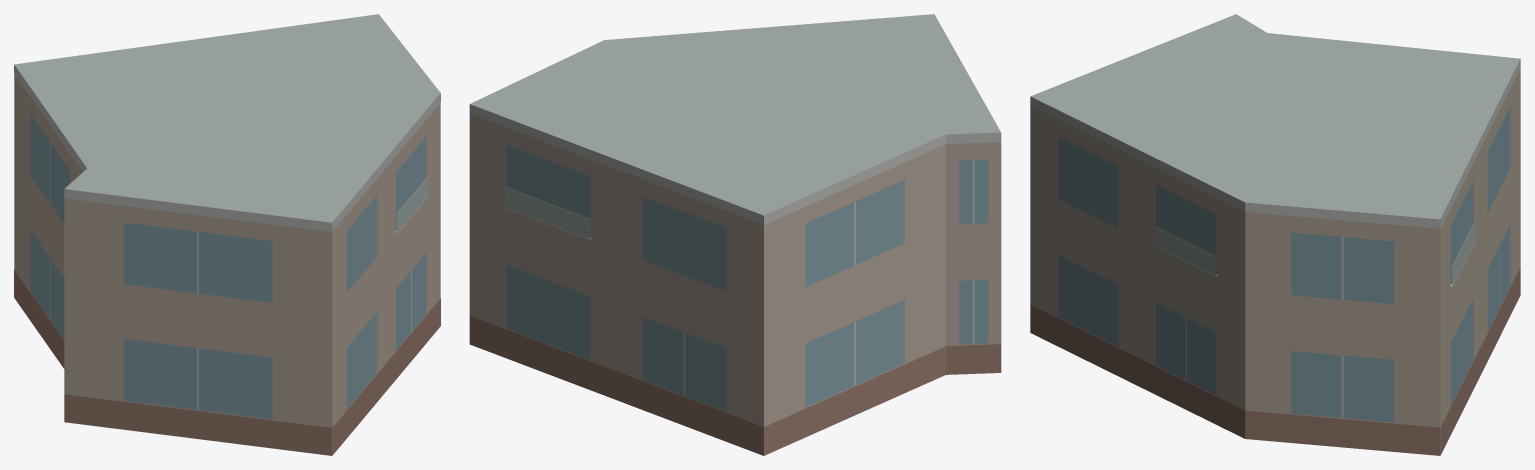
File: survey-upis-32602609.glb
The picture shows the model from 3 angles, left to right: view 1: azimuth 30°, elevation 25°; view 2: azimuth 150°, elevation 25°; view 3: azimuth 270°, elevation 25°; orthographic projection. The views are drawn at different scales.
Parts seen in each view (by area): view 1: survey-upis-32602609.tmp; view 2: survey-upis-32602609.tmp; view 3: survey-upis-32602609.tmp.
Part boxes in pixels (box(x1,y1,x2,y2)): survey-upis-32602609.tmp: box(14, 14, 440, 455); survey-upis-32602609.tmp: box(469, 14, 1001, 455); survey-upis-32602609.tmp: box(1030, 14, 1520, 455).
Size of the model in its own units: 11.38 by 6.1 by 11.47.
